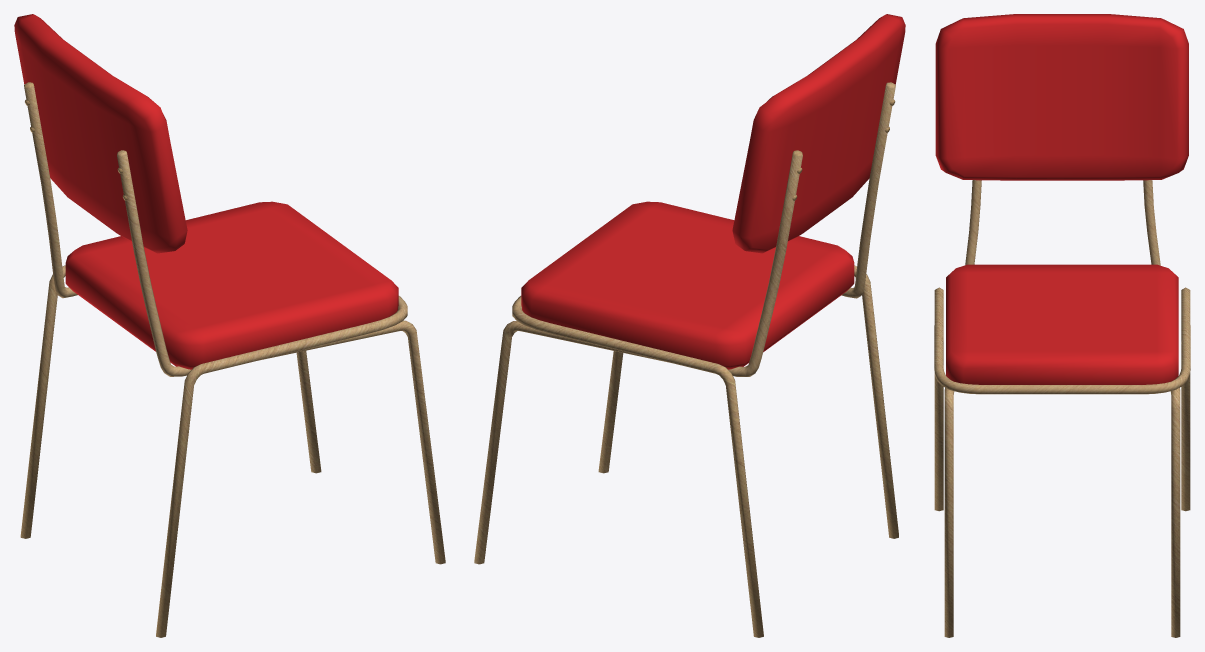
The model's file is MOD_FUR_Kitchen_chair_01.fbx.
3 renders of one model, left to right at view 1: azimuth 30°, elevation 25°; view 2: azimuth 150°, elevation 25°; view 3: azimuth 270°, elevation 25°, orthographic. The views are drawn at different scales.
Parts seen in each view (by area): view 1: HSHP_MOD_Kitchen_chair_01; view 2: HSHP_MOD_Kitchen_chair_01; view 3: HSHP_MOD_Kitchen_chair_01.
Part boxes in pixels (x1,y1,x2,y2): HSHP_MOD_Kitchen_chair_01: (14,14,445,637); HSHP_MOD_Kitchen_chair_01: (474,14,905,637); HSHP_MOD_Kitchen_chair_01: (934,14,1190,637).
Size of the model in its own units: 0.6155 by 0.9898 by 0.4727.
